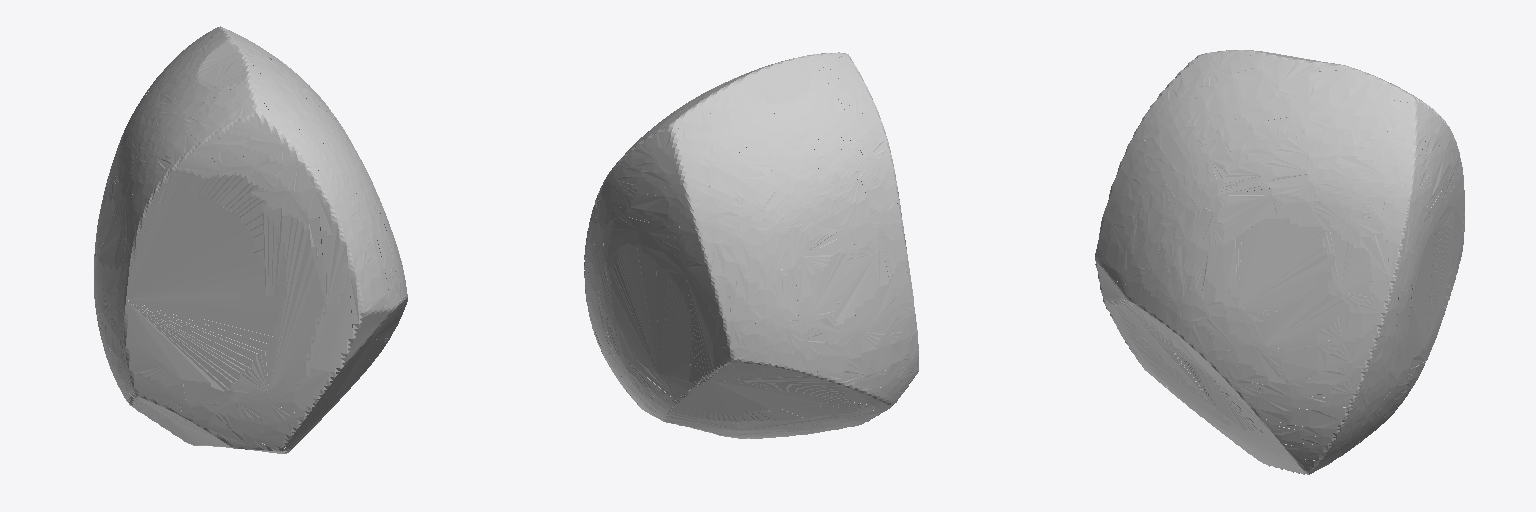
File: Rock_01.obj
3 views of the same model, side by side, from view 1: azimuth 30°, elevation 25°; view 2: azimuth 150°, elevation 25°; view 3: azimuth 270°, elevation 25° (orthographic).
Visible parts, largest first — view 1: Cube.001_Cube.004; view 2: Cube.001_Cube.004; view 3: Cube.001_Cube.004.
Boxes of the visible parts, x1,y1,x2,y2 form: Cube.001_Cube.004: [94, 26, 407, 453]; Cube.001_Cube.004: [584, 52, 918, 438]; Cube.001_Cube.004: [1095, 50, 1464, 474].
Bounding box in the file's own units: 1.23 × 1.64 × 1.41.